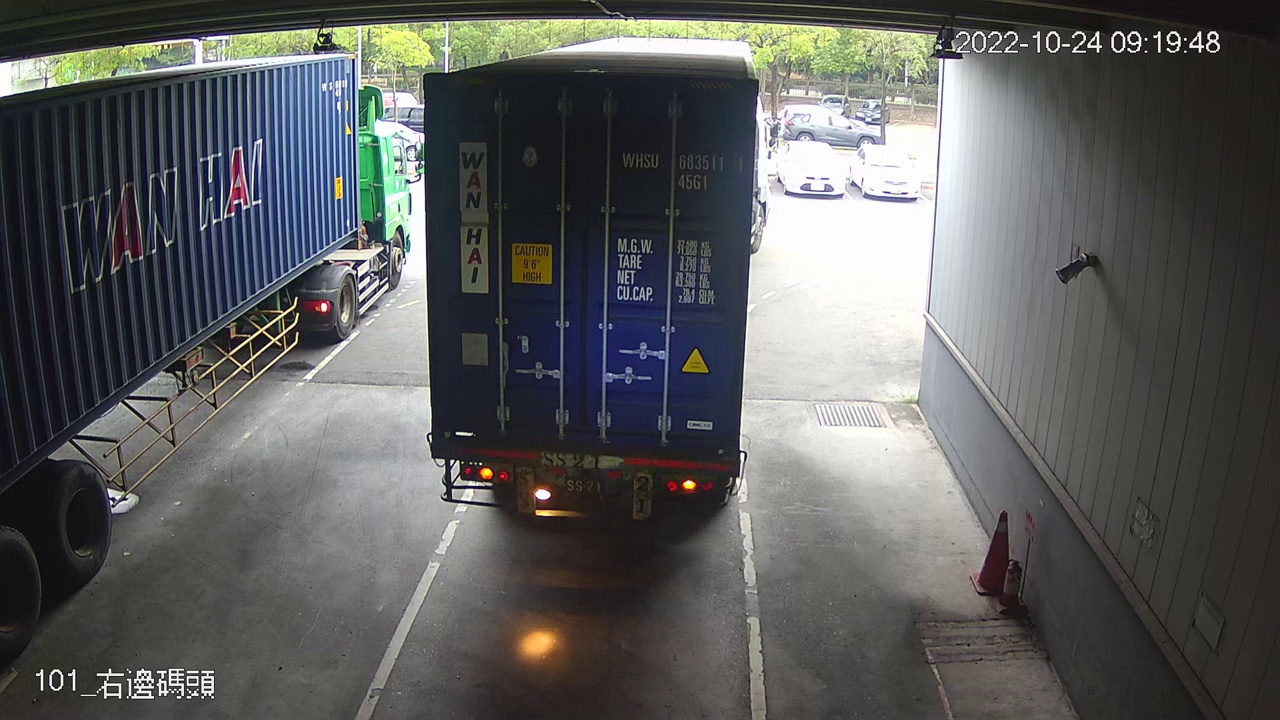container: (618, 145, 748, 195)
